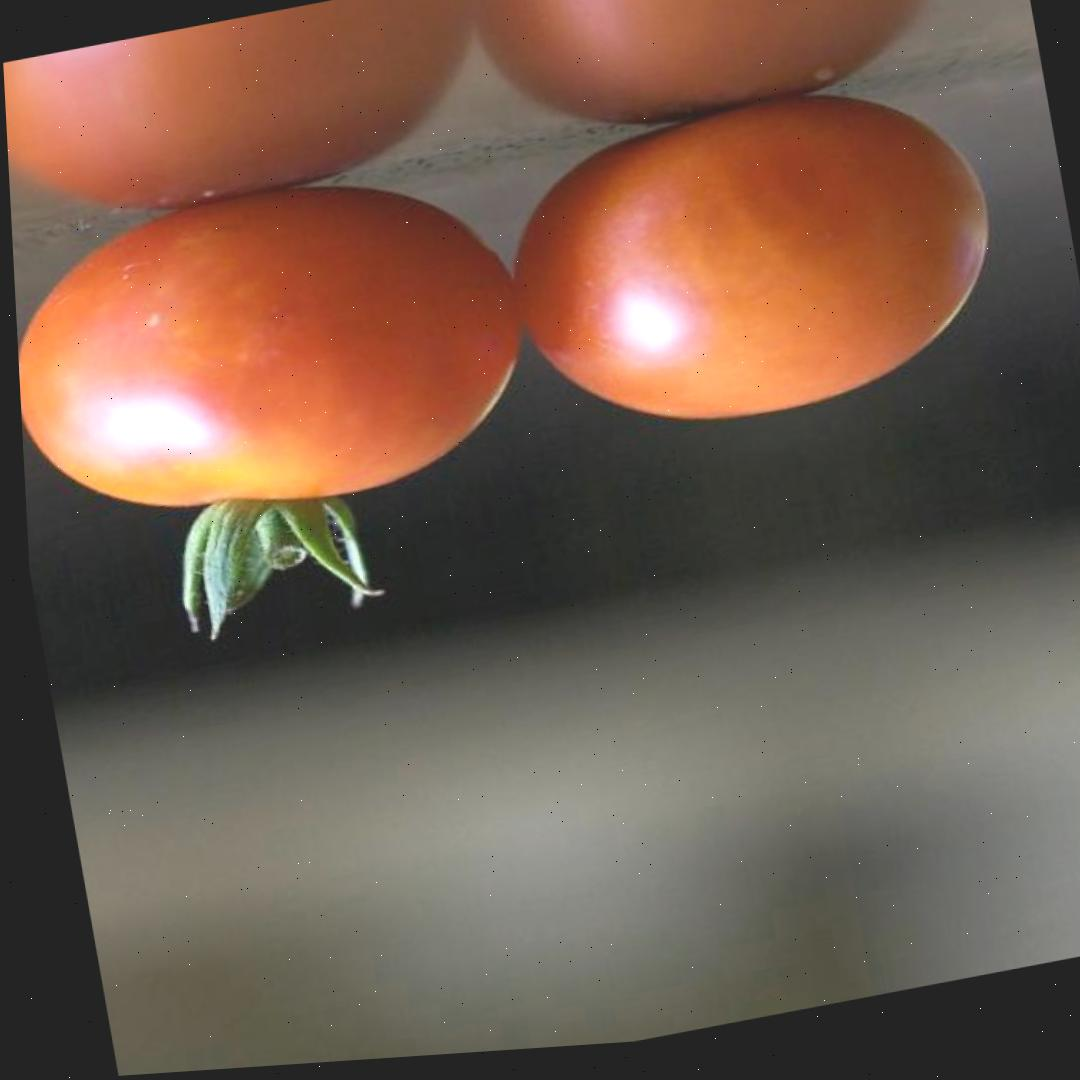matang: (9, 141, 570, 669), (497, 56, 1027, 460)
